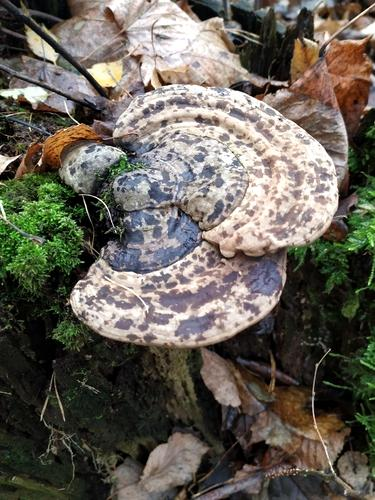Ganoderma - Fruit Body: (61, 80, 339, 353)
